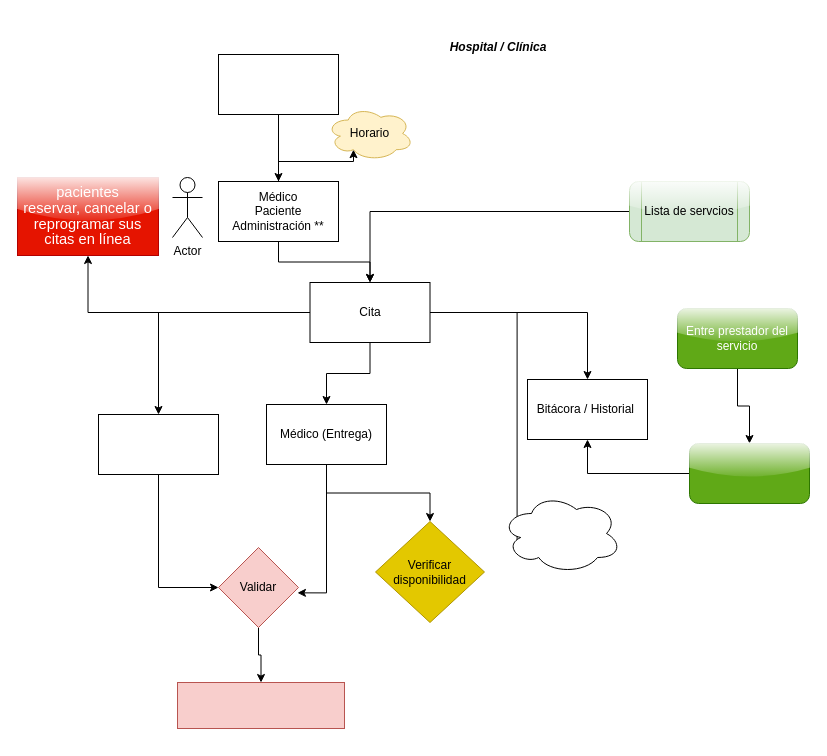
This 827x756 diagram has some shape labels left out. Here are the shapes that lost their labels. From the top down, the centre of each, then its label:
At pixel 278 84: "Gestión Cita".
At pixel 158 444: "Paciente (Recibe)".
At pixel 749 473: "Sedes".
At pixel 561 533: "Nofificar Contrlar duplicidad".
At pixel 260 705: "Asignación de citas Cancelación de citas Reprogramar".
